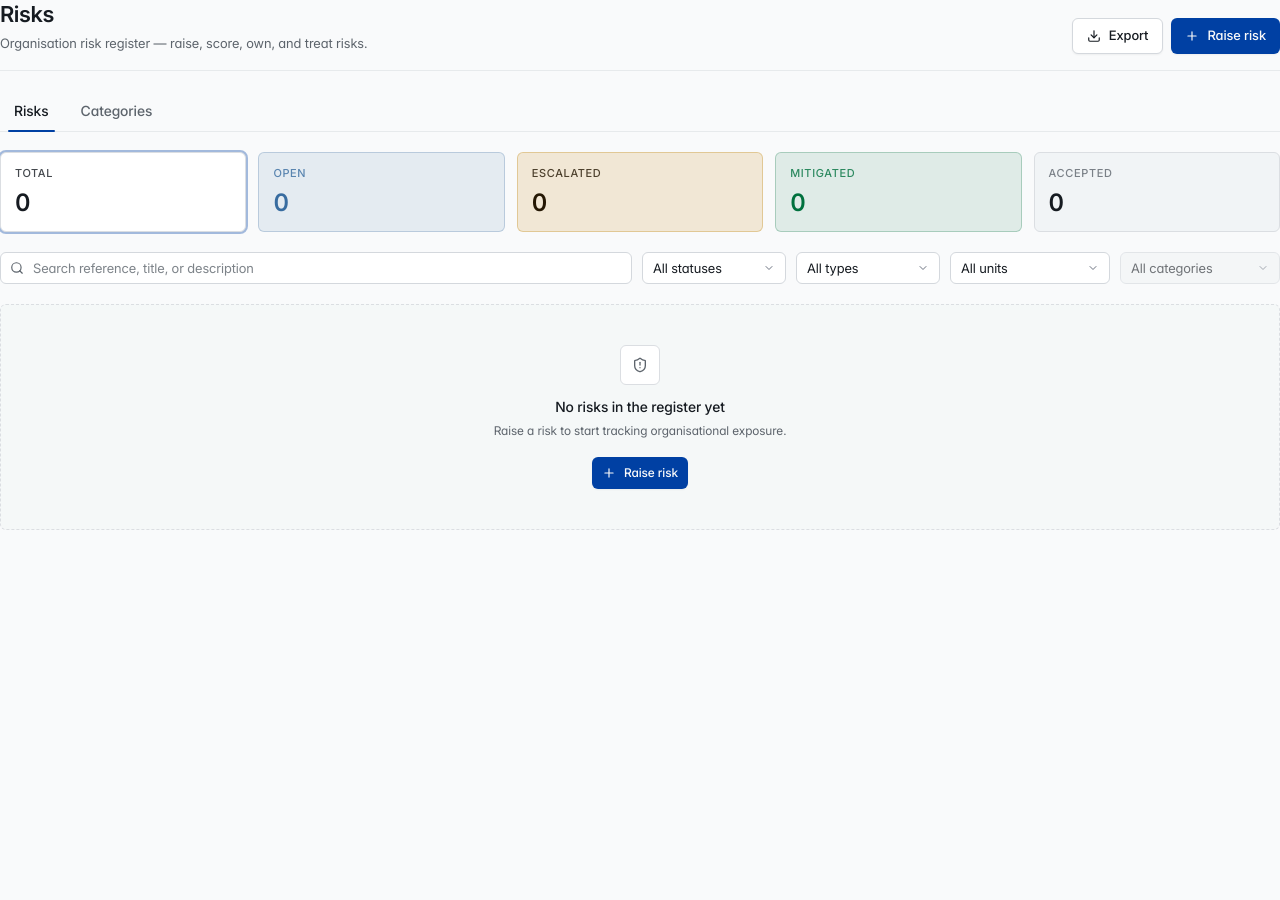
RisksListPage › opens create sheet from Raise risk
This screenshot has width=1280, height=900.
Expected: the text "No risks in the register yet" is shown, [555,398,725,415]
Click the 1st button "Raise risk" at (1226, 36), box [1171,18,1279,54]
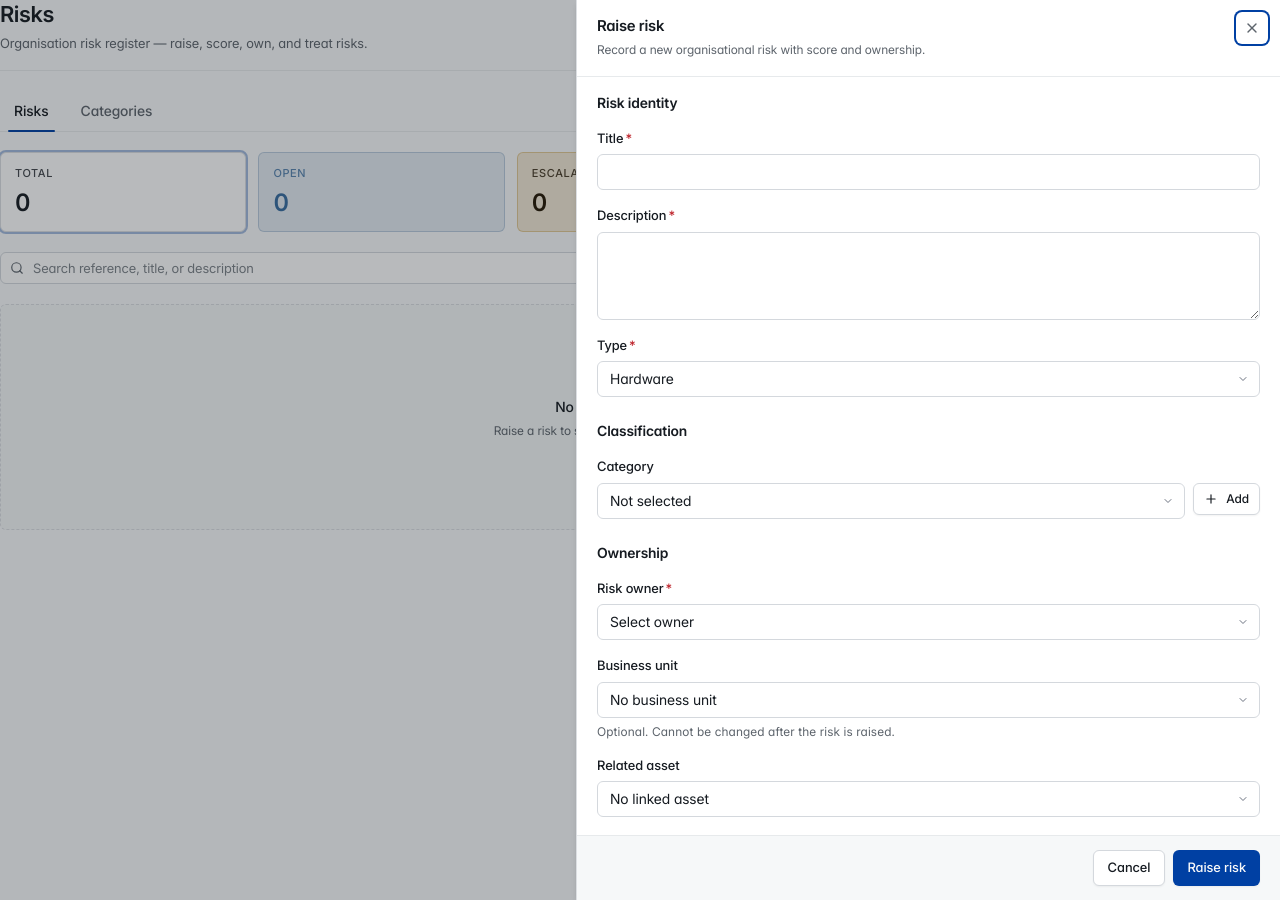
Now the heading "Raise risk" is shown, box [597,16,664,35]
Now the text "Title*" is shown, box [597,130,632,146]
